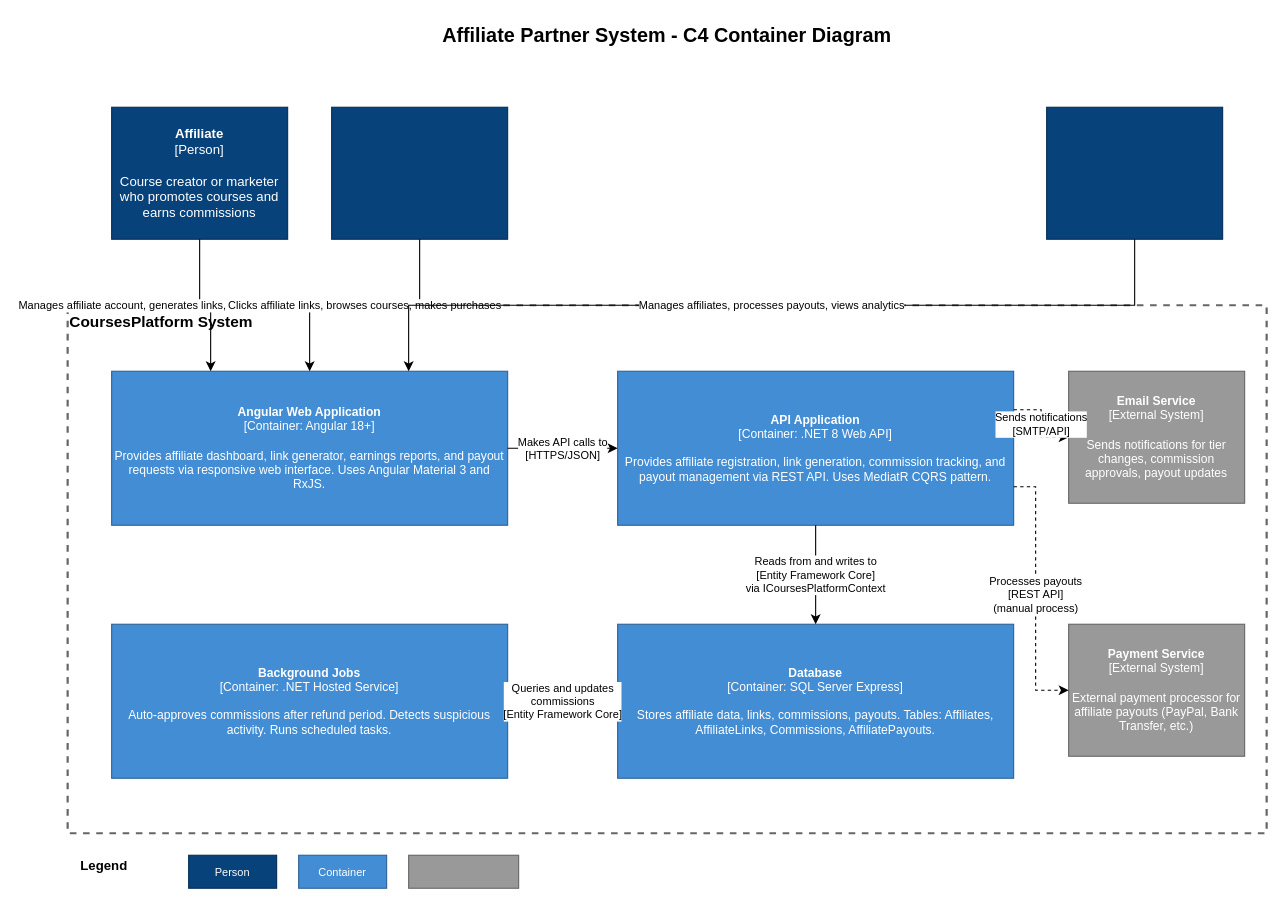
Image size: 1287x908. Some labels were removed from this diagram. The shapes that lost their labels are listed below. From the top down, each one's centre as x and y in pixels, then its label:
(x=419, y=172): Customer [Person] User who clicks affiliate link and purchases courses
(x=1134, y=172): Administrator [Person] System admin who manages affiliates and processes payouts
(x=463, y=871): External System
